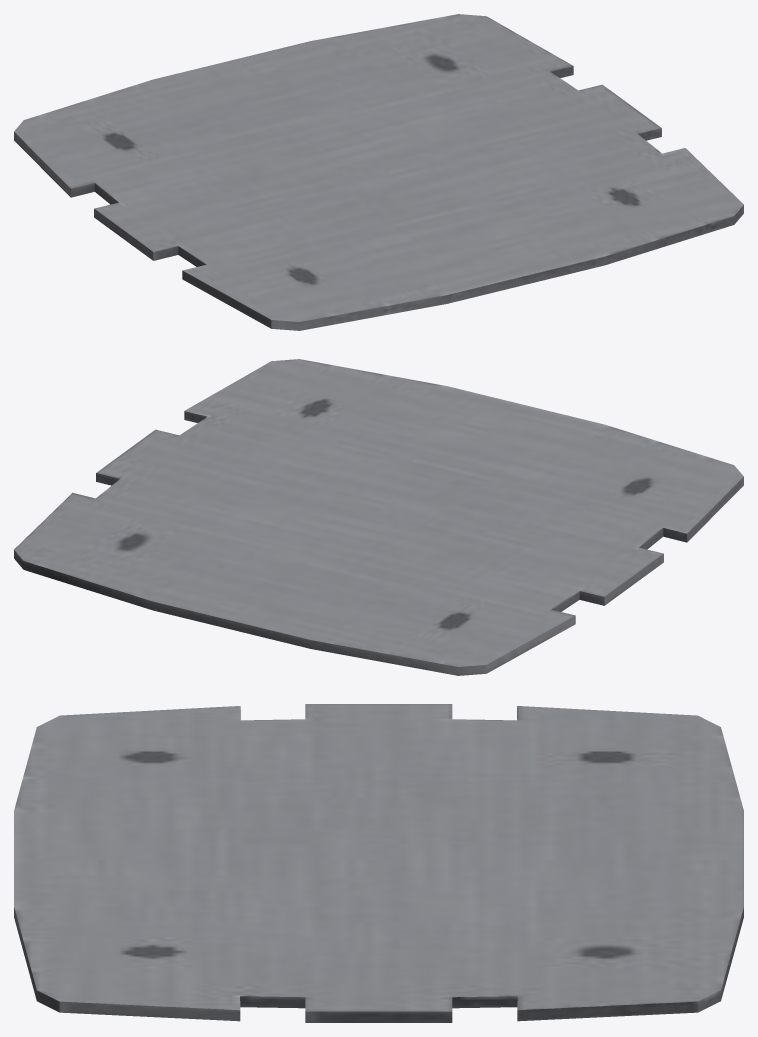
The model's file is coolerFin_cube.glb.
3 views of the same model, one above another, from view 1: azimuth 30°, elevation 25°; view 2: azimuth 150°, elevation 25°; view 3: azimuth 270°, elevation 25° (orthographic). The views are drawn at different scales.
Visible parts, largest first — view 1: fins.001; view 2: fins.001; view 3: fins.001.
Part boxes in pixels (left/top/right/bottom): fins.001: left=14, top=14, right=743, bottom=330; fins.001: left=14, top=359, right=743, bottom=675; fins.001: left=14, top=704, right=743, bottom=1022.
Bounding box in the file's own units: 1.99 × 0.0332 × 1.99.
1 material, 1 textured.
